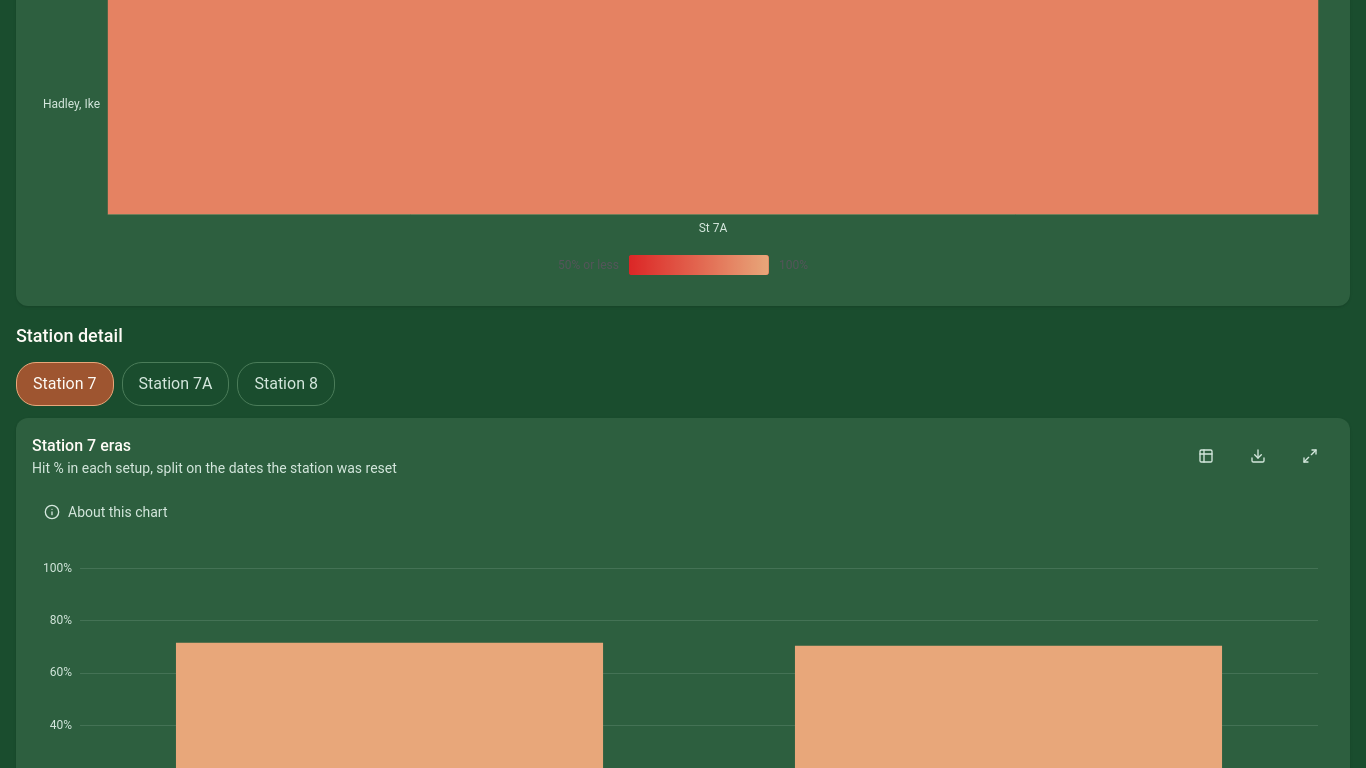
StationsPage › a lettered station such as 7A › opens its own detail from the picker and puts the label in the URL
(page scrolled)
Click the button "Station 7A": (175, 384) [122,362,229,406]
(page scrolled)
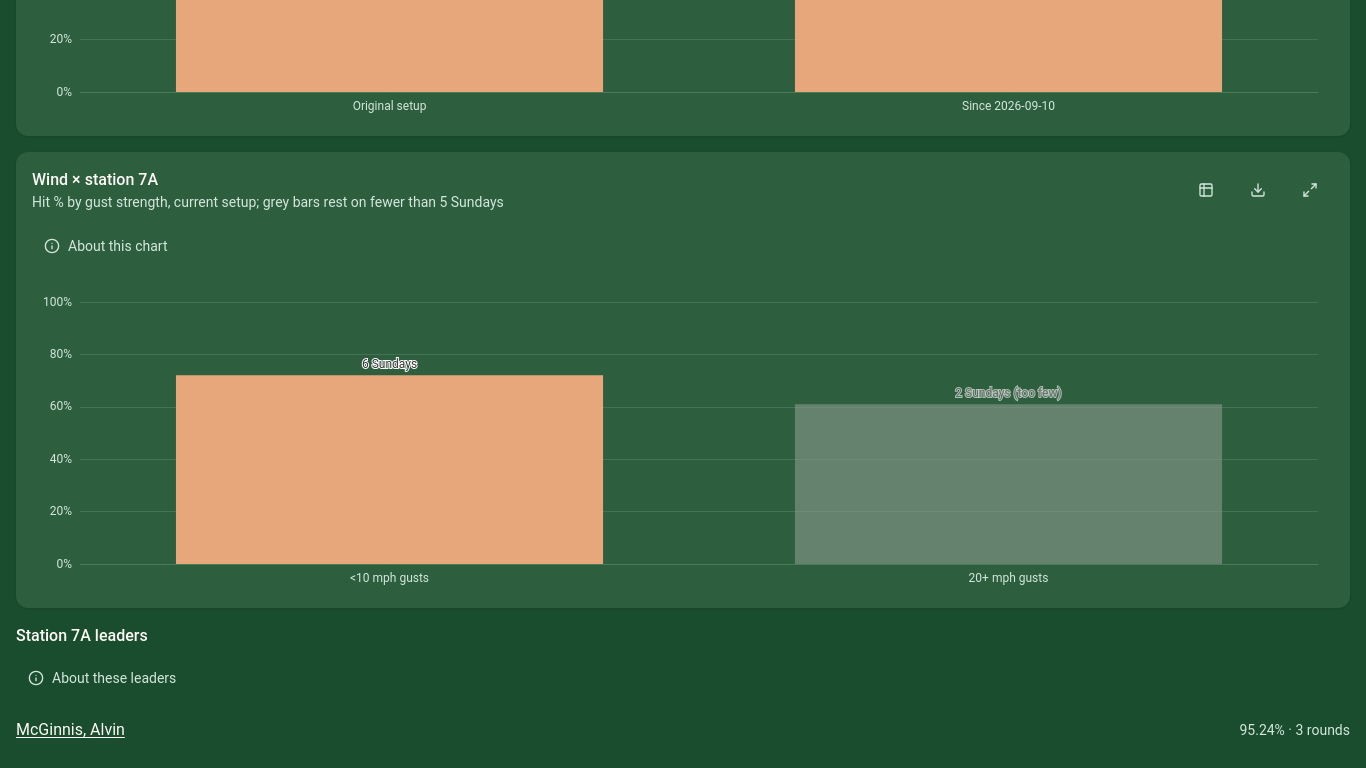
Expected: the heading "Wind × station 7A" is shown, [32,170,158,189]
Expected: the element "Station 7A leaders" is shown, [16,624,1350,752]
